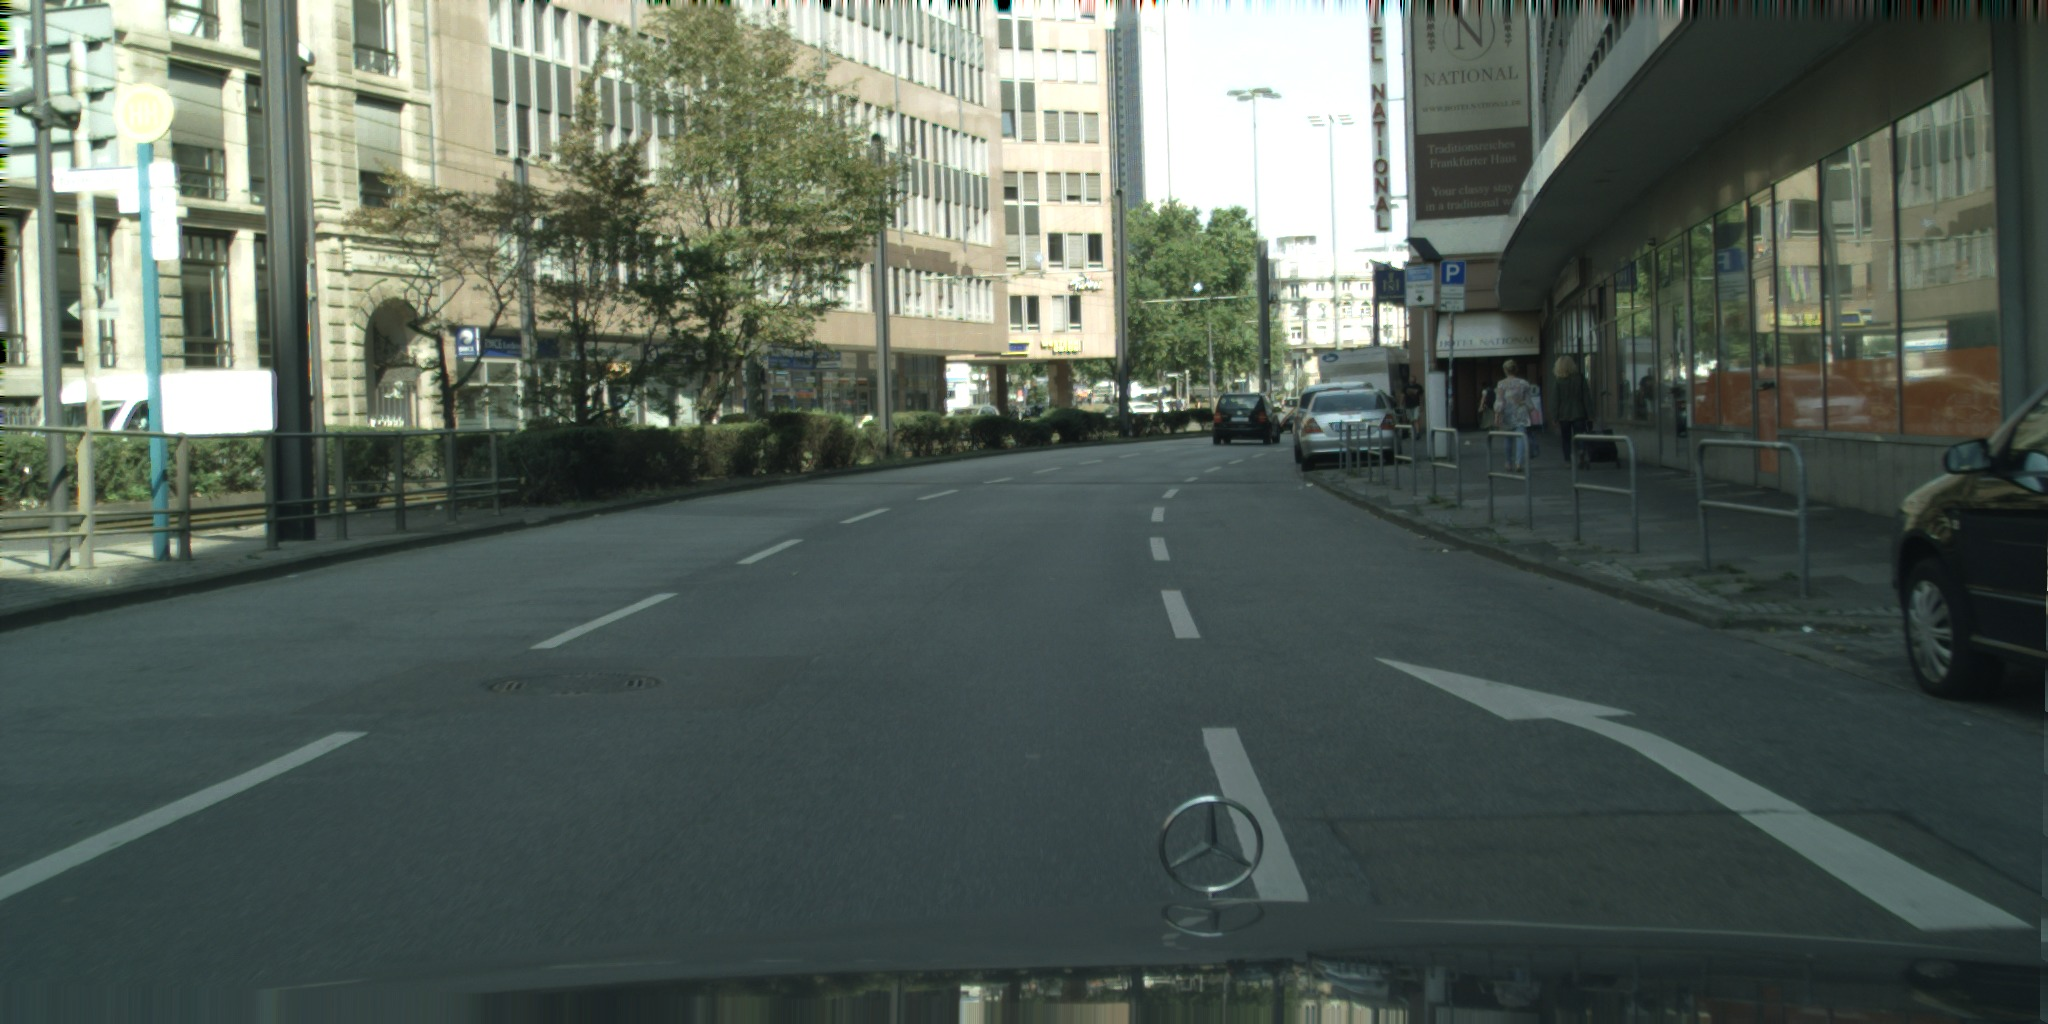car: (1889, 377, 2048, 703), (34, 368, 286, 456), (1298, 388, 1403, 472), (1291, 381, 1377, 465), (1212, 391, 1282, 447), (942, 404, 1002, 426)
person: (1549, 354, 1596, 470), (1494, 359, 1541, 473), (1400, 375, 1428, 440), (1479, 377, 1507, 431)
truck: (1318, 345, 1412, 438)
